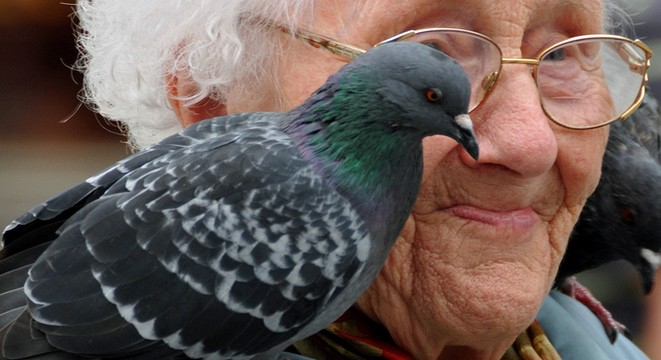Flying Rat: (3, 40, 485, 357)
